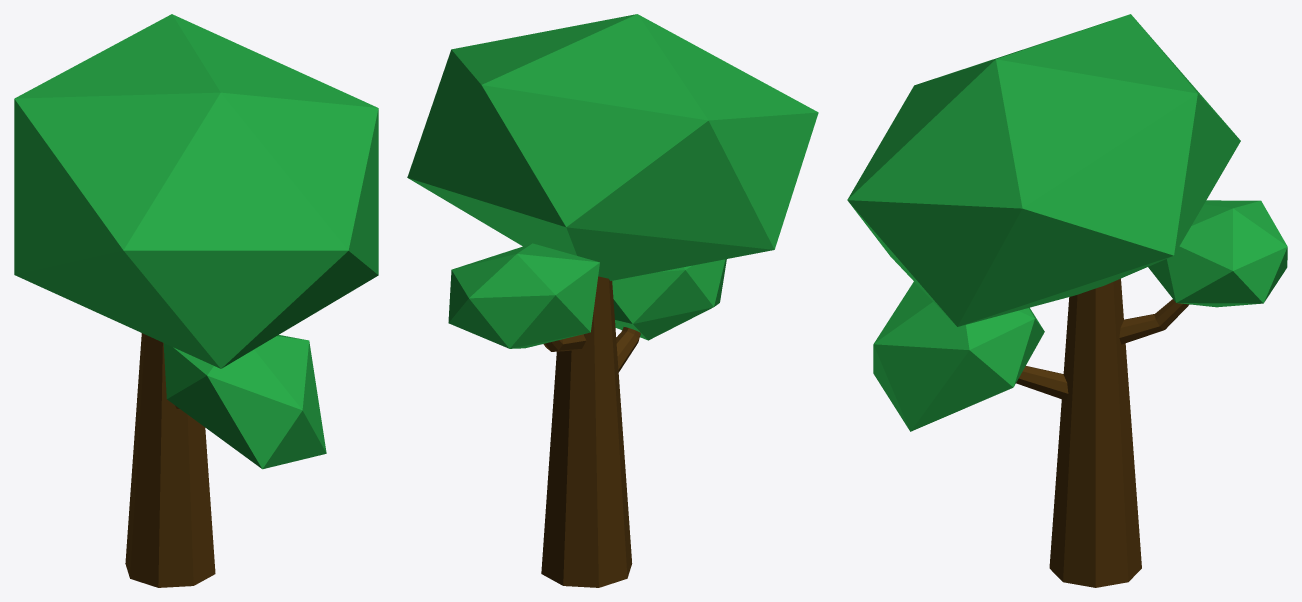
Rendered from tree004.fbx.
3 views of the same model, side by side, from view 1: azimuth 30°, elevation 25°; view 2: azimuth 150°, elevation 25°; view 3: azimuth 270°, elevation 25° (orthographic).
Visible parts, largest first — view 1: Icosphere.003; view 2: Icosphere.003; view 3: Icosphere.003.
Boxes of the visible parts, <box> form: Icosphere.003: <box>14,14,378,587</box>; Icosphere.003: <box>407,14,818,587</box>; Icosphere.003: <box>847,14,1287,587</box>.
Size of the model in its own units: 848 by 1214 by 952.
